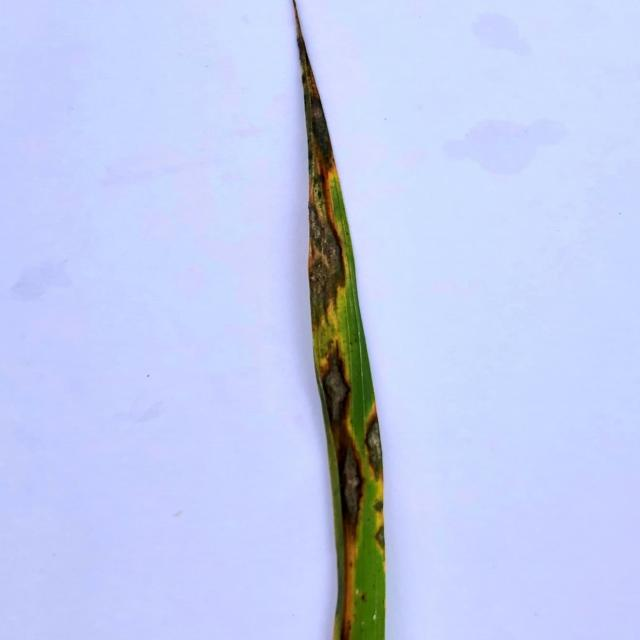leaf blast: (302, 75, 344, 195), (332, 426, 368, 548), (332, 430, 368, 544), (305, 202, 352, 281), (317, 336, 355, 429), (306, 254, 335, 330), (361, 410, 389, 484), (327, 579, 351, 640)
